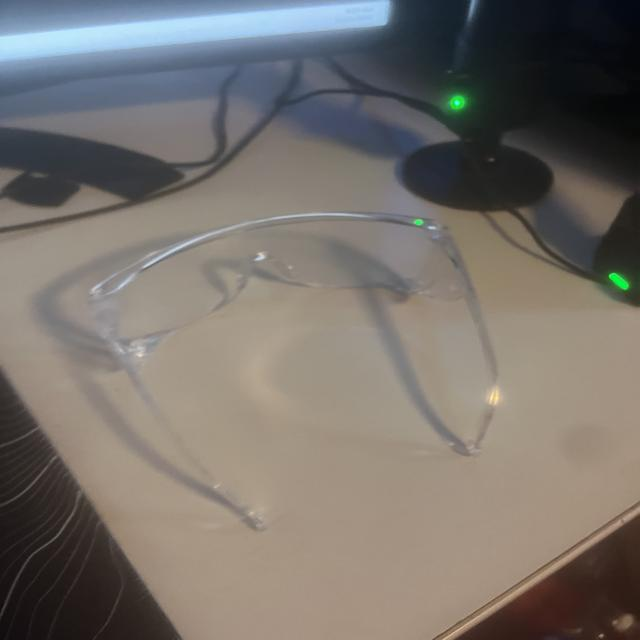Safety Glasses: (73, 202, 537, 540)
